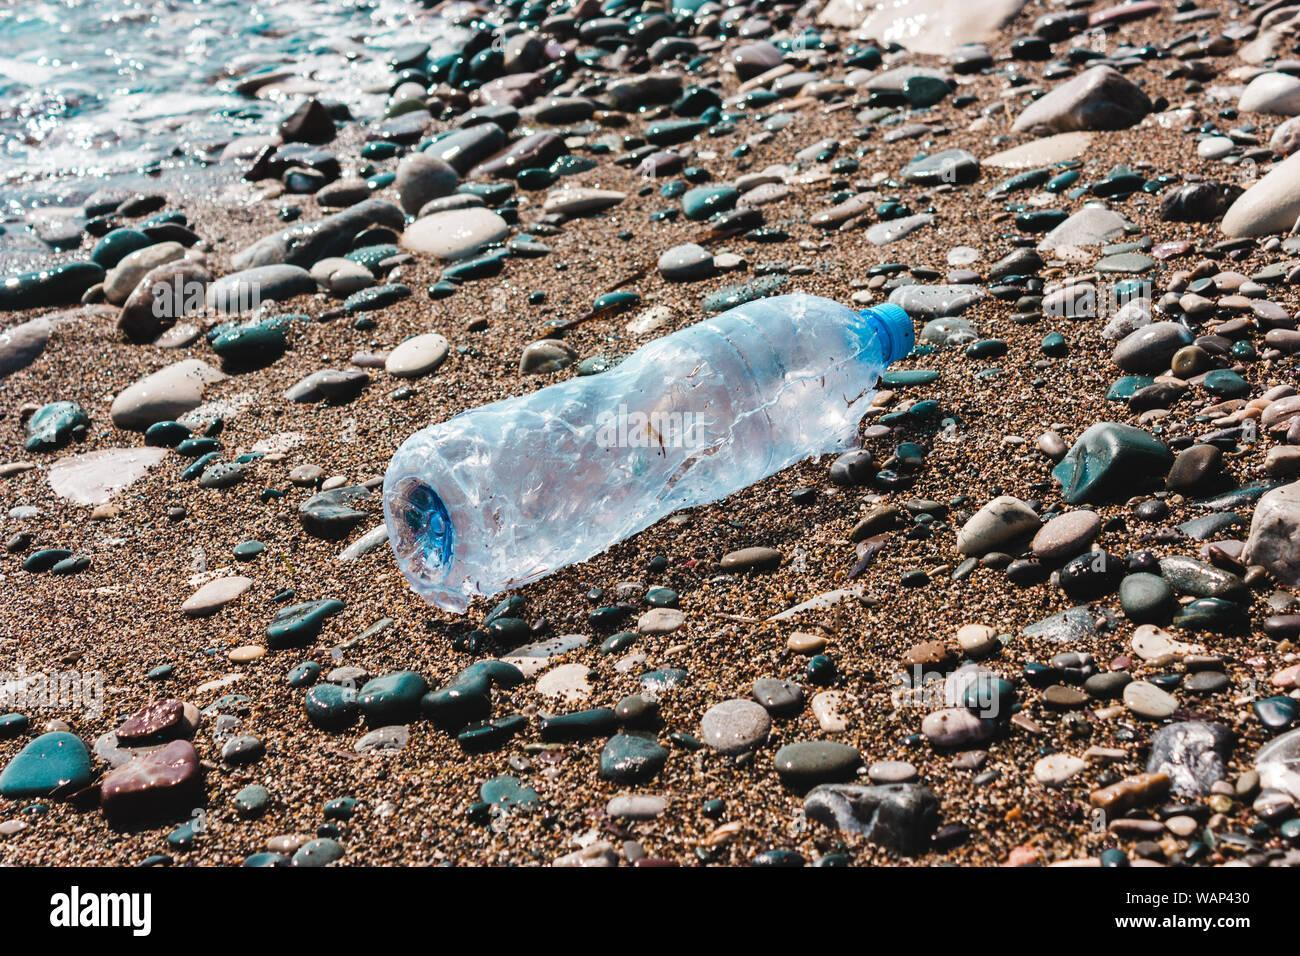bottle: (361, 252, 943, 616)
